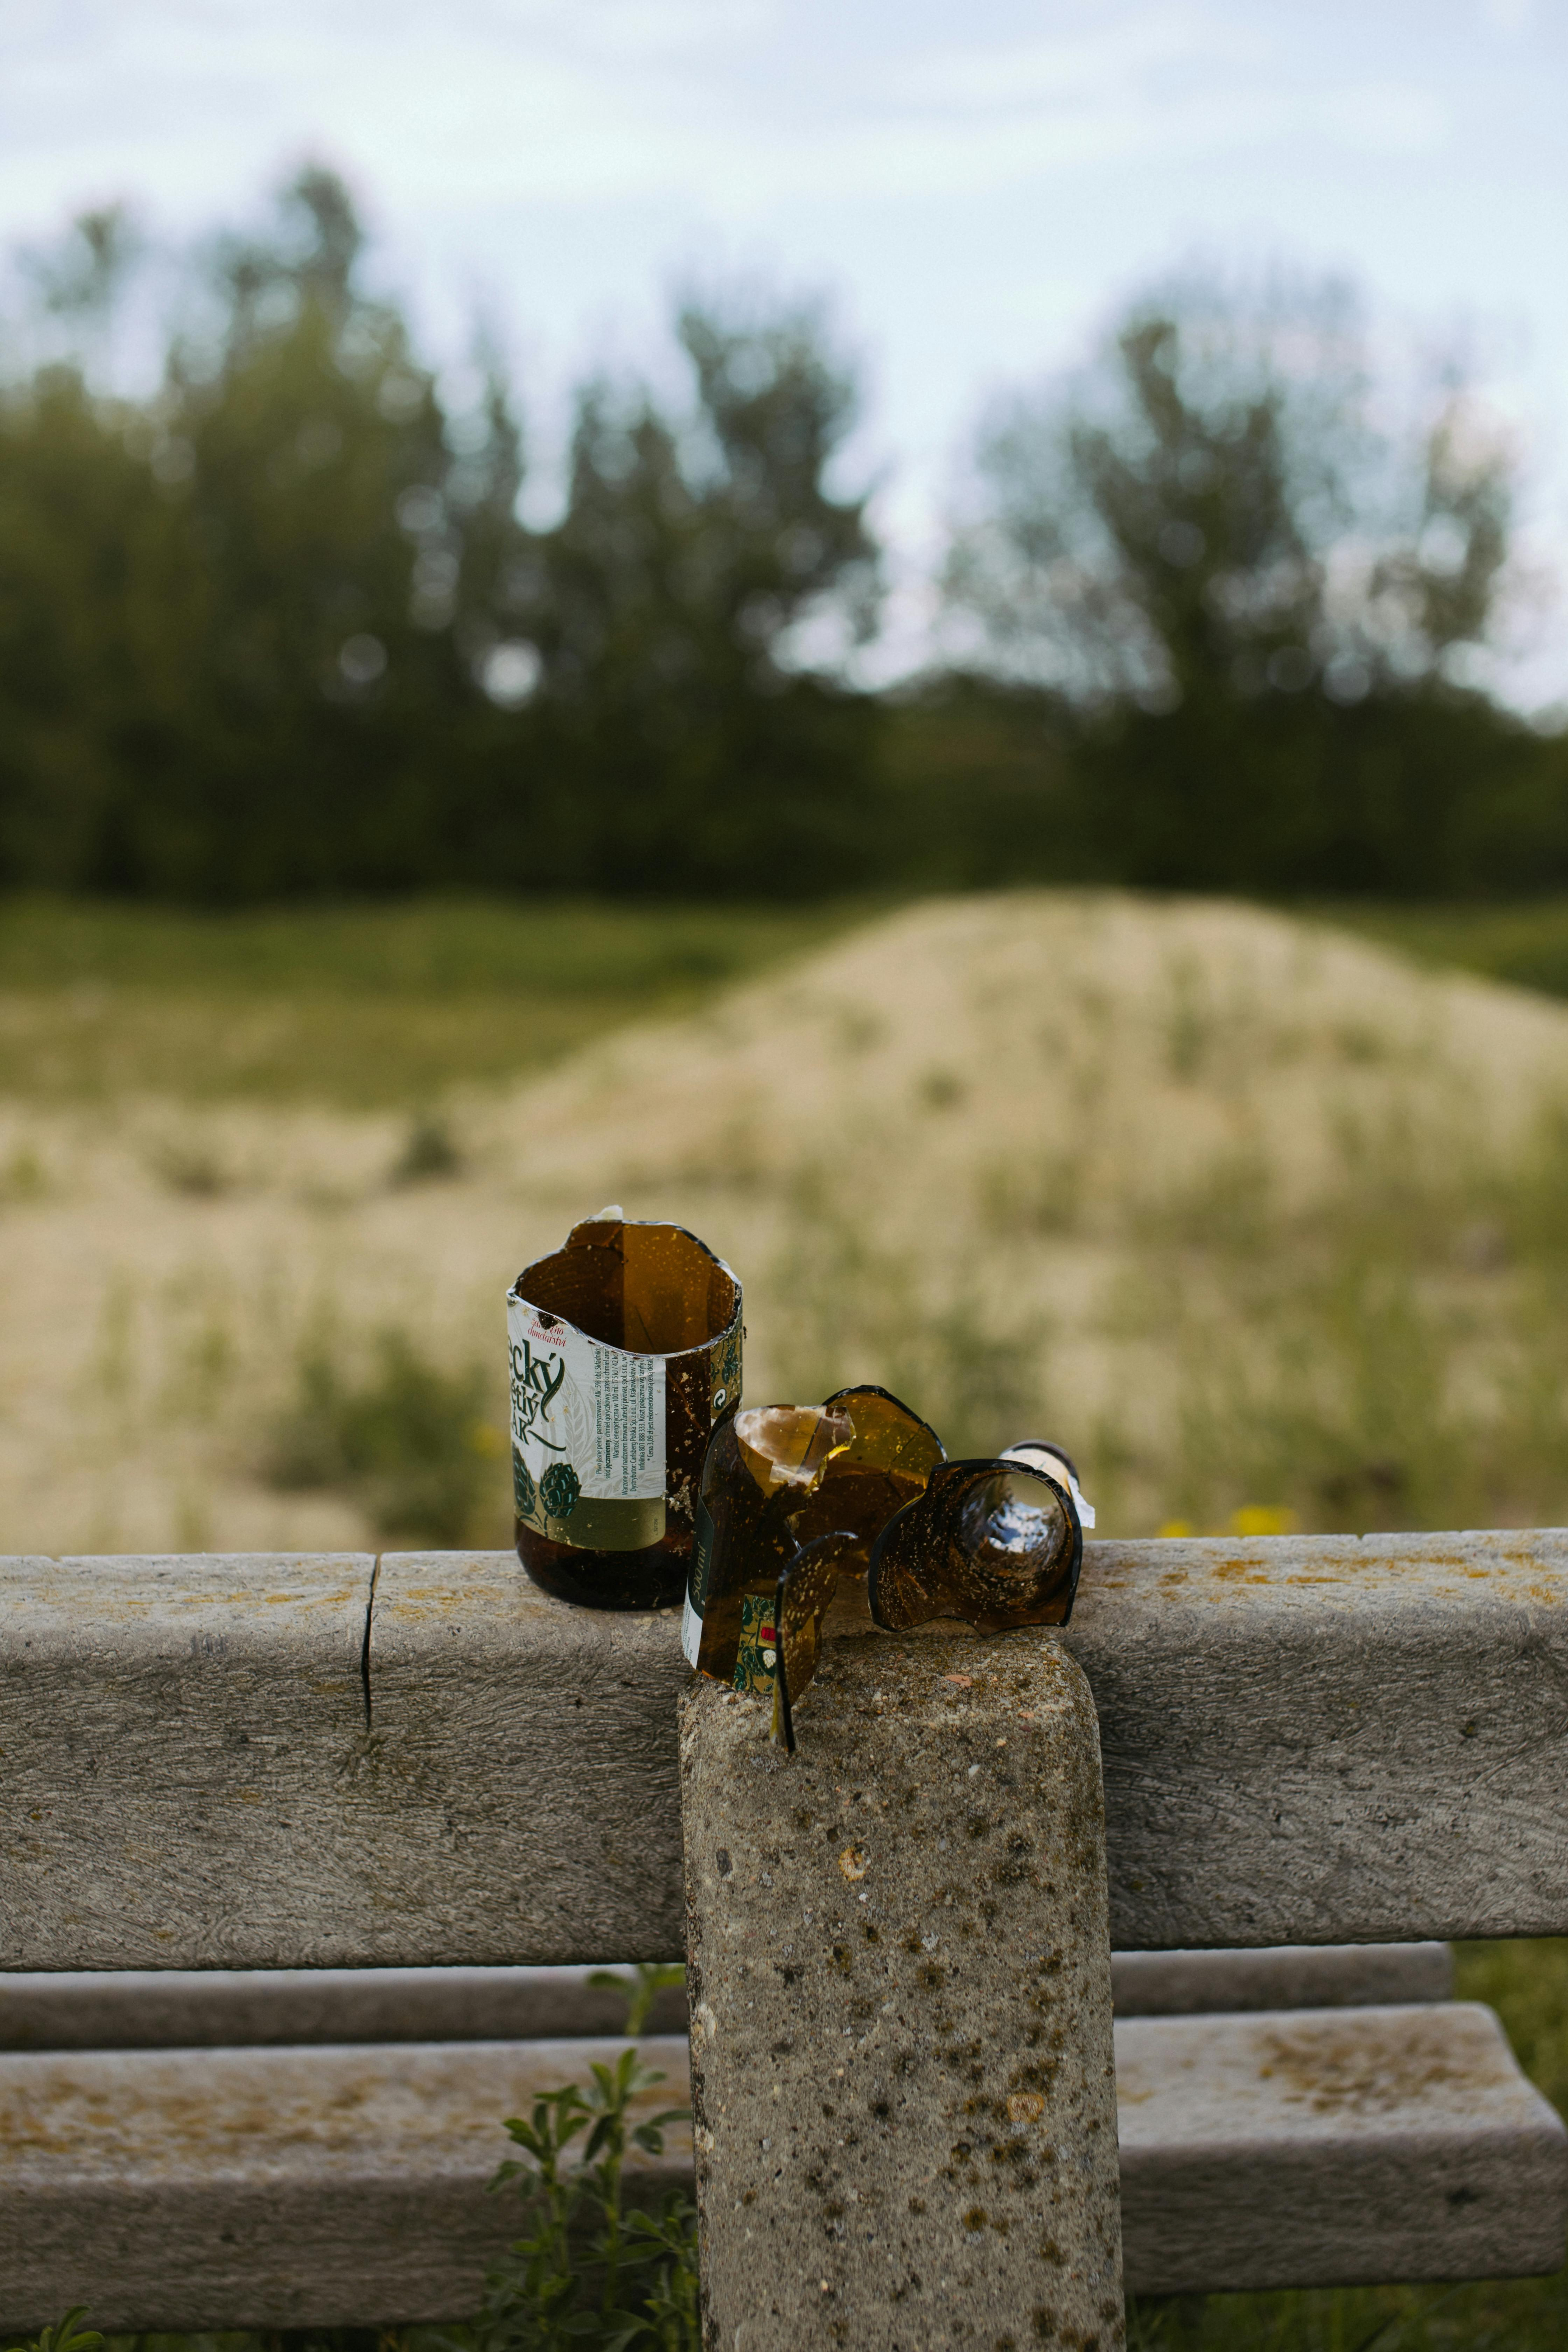glass: (696, 1393, 1085, 1759), (507, 1204, 742, 1610)
